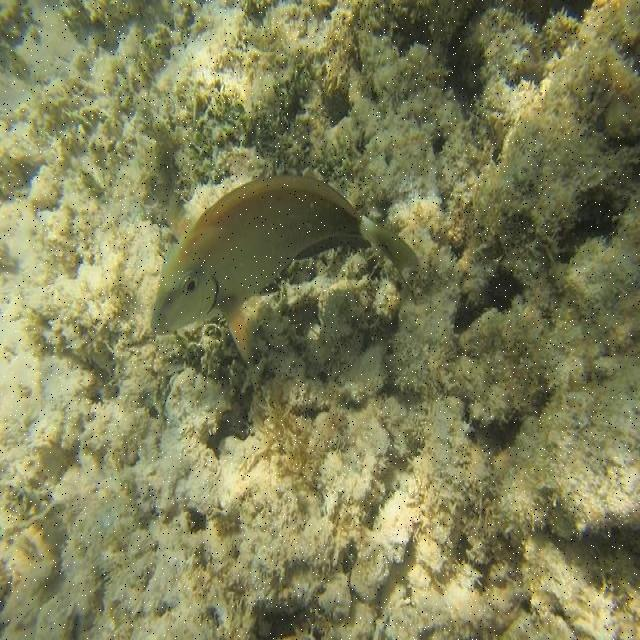fish: (151, 176, 421, 367)
